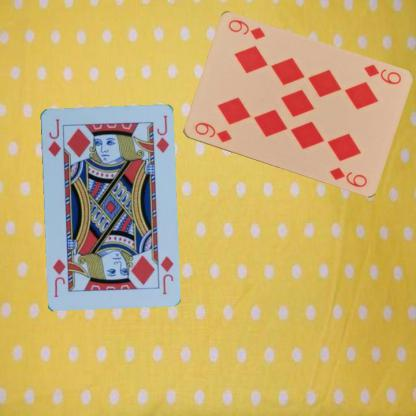9d: (192, 119, 233, 144), (361, 61, 402, 86)
Jd: (158, 253, 175, 296), (45, 116, 62, 158)
